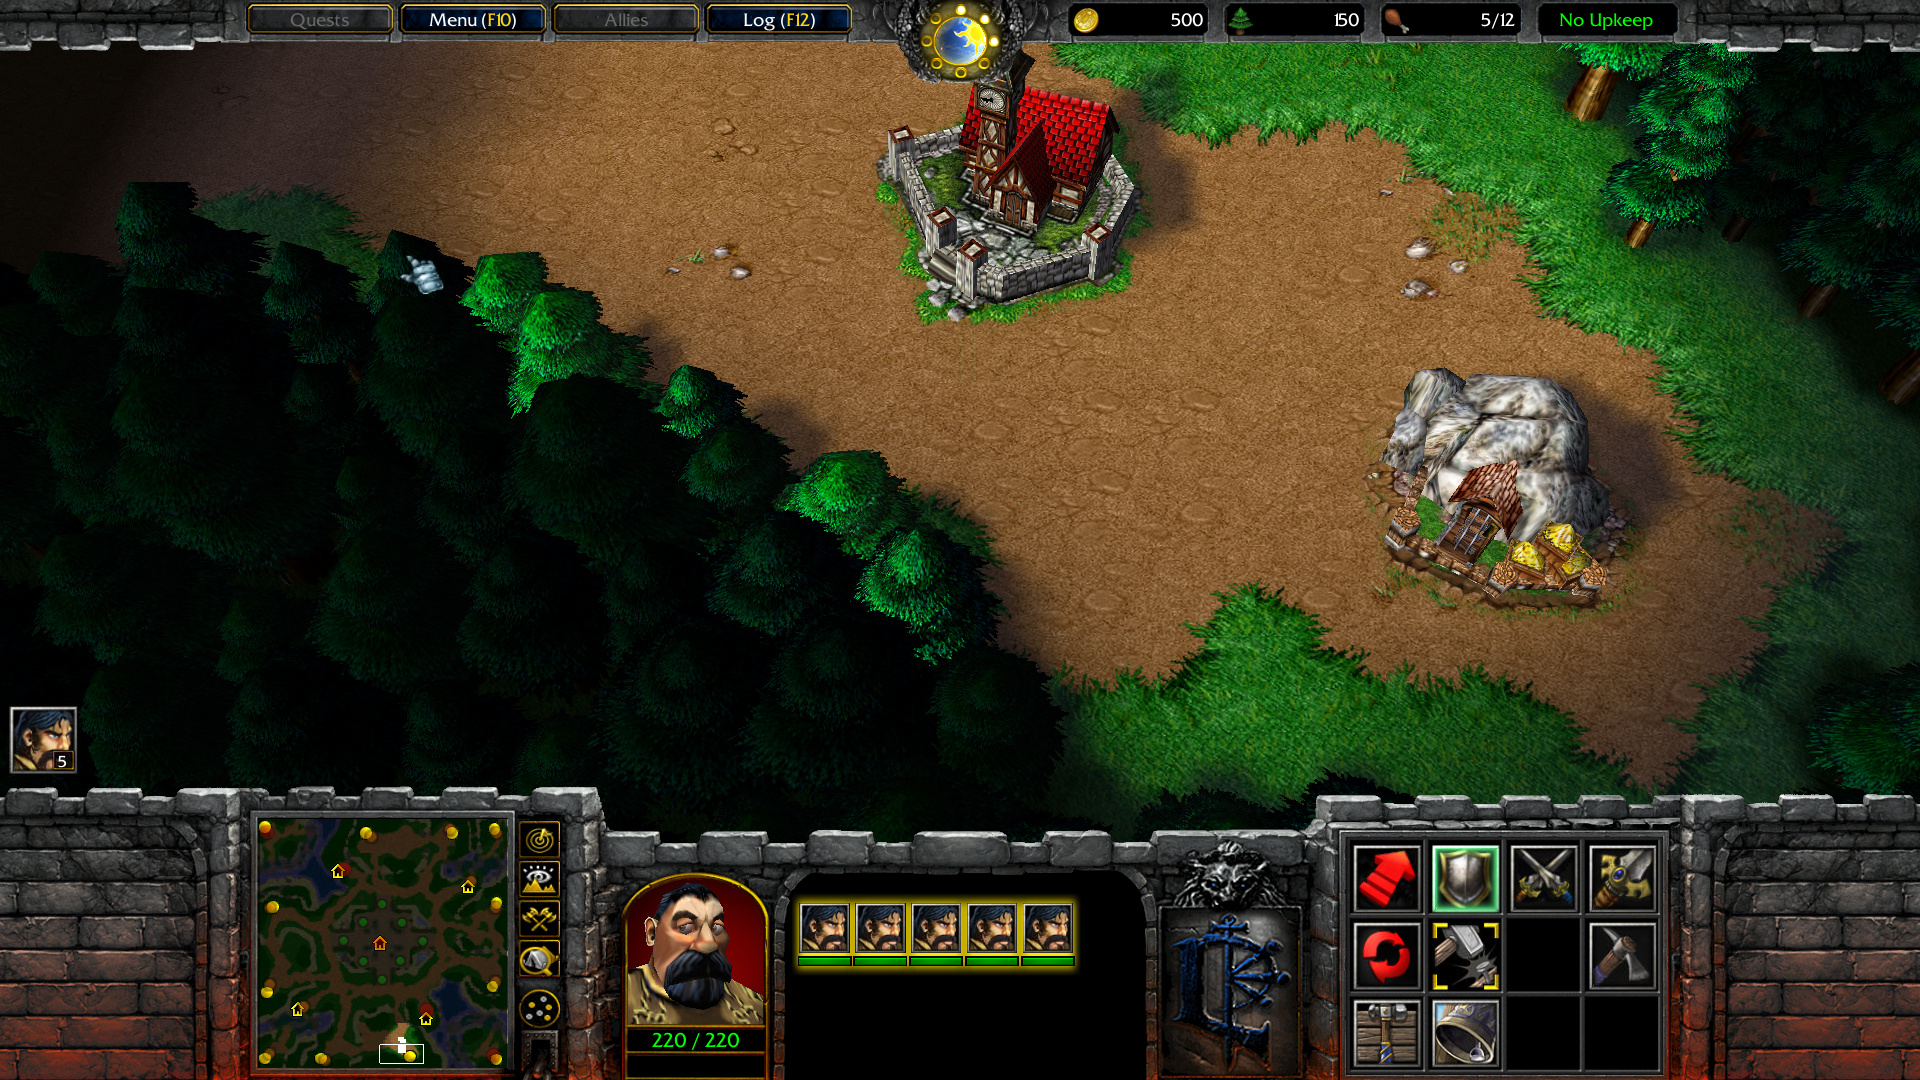Townhall: (857, 40, 1158, 318)
